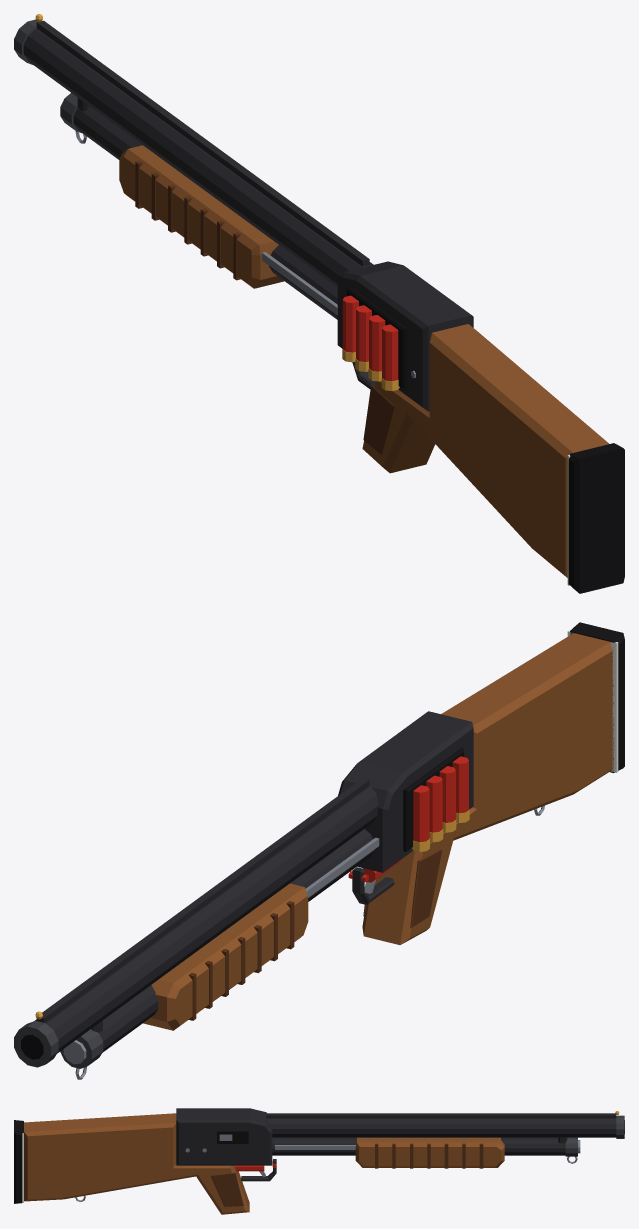
The model's file is shotgun.glb.
The picture shows the model from 3 angles, top to bottom: view 1: azimuth 30°, elevation 25°; view 2: azimuth 150°, elevation 25°; view 3: azimuth 270°, elevation 25°; orthographic projection. The views are drawn at different scales.
Visible parts, largest first — view 1: body, pump; view 2: body, pump; view 3: body, pump, shell.
Part boxes in pixels (box(x1,y1,x2,y2)): body: box(14, 14, 624, 593); pump: box(119, 145, 337, 315); body: box(14, 622, 624, 1079); pump: box(143, 837, 379, 1030); body: box(14, 1108, 624, 1214); pump: box(275, 1137, 504, 1168); shell: box(234, 1165, 264, 1171).
Size of the model in its own units: 0.0781 by 0.194 by 1.08.
